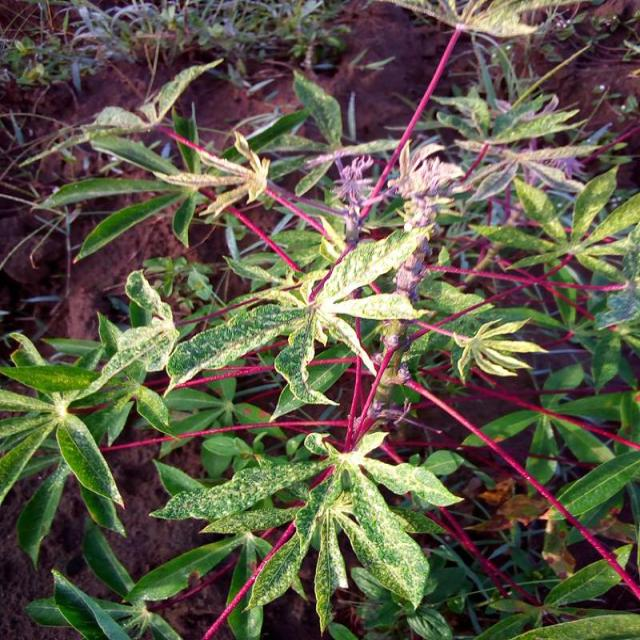cassava leaf: (1, 12, 638, 637)
